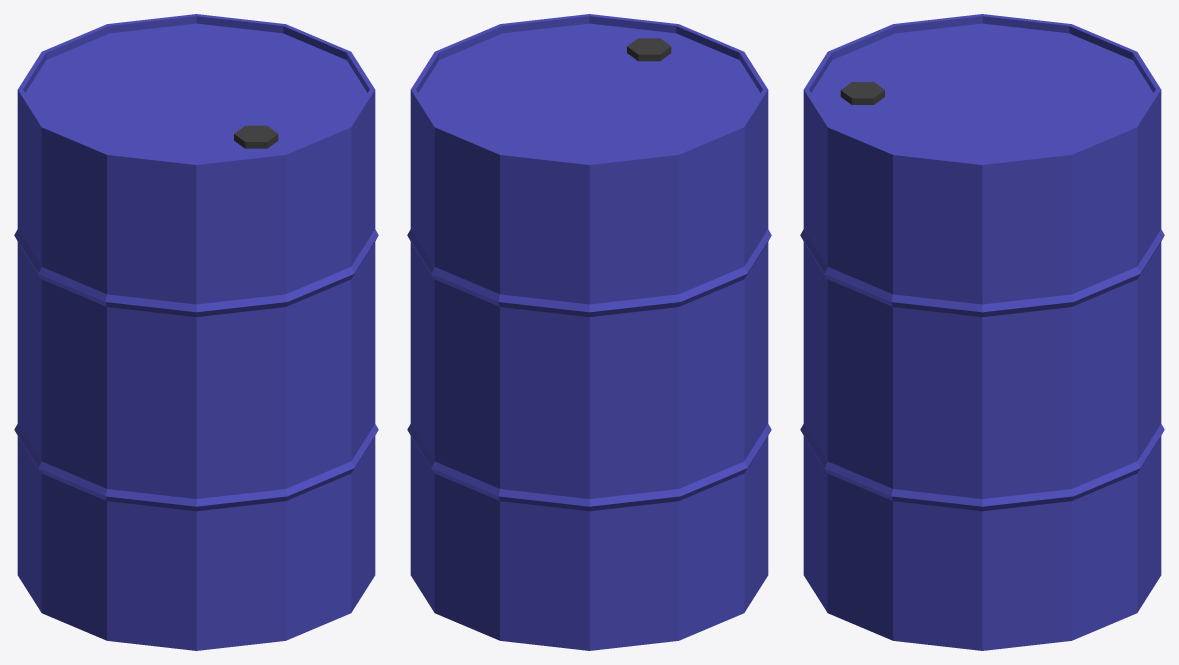
The model's file is barrel.fbx.
The picture shows the model from 3 angles, left to right: view 1: azimuth 30°, elevation 25°; view 2: azimuth 150°, elevation 25°; view 3: azimuth 270°, elevation 25°; orthographic projection.
Parts seen in each view (by area): view 1: Cylinder; view 2: Cylinder; view 3: Cylinder.
Part boxes in pixels (x1,y1,x2,y2): Cylinder: [14, 14, 378, 650]; Cylinder: [407, 14, 771, 650]; Cylinder: [800, 14, 1164, 650].
Bounding box in the file's own units: 0.612 × 0.9 × 0.612.
